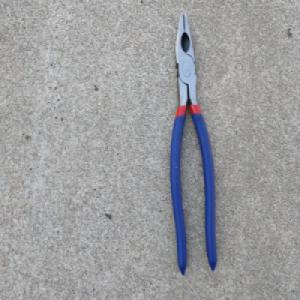Pliers: (169, 10, 219, 277)
